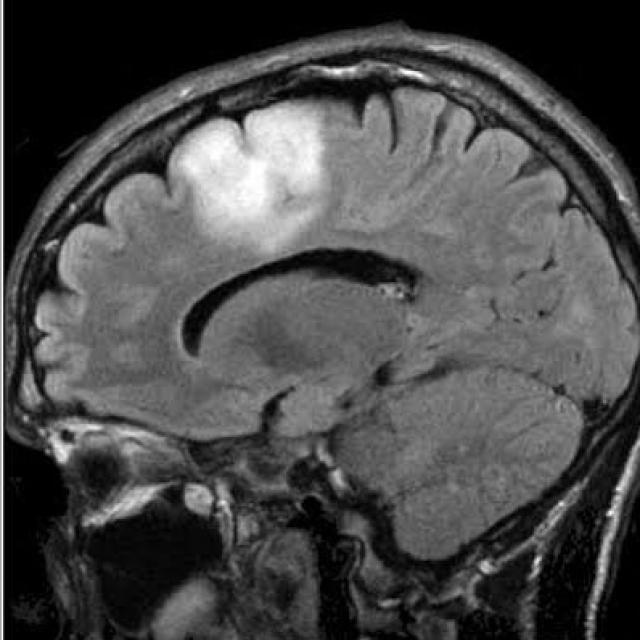glioma: (180, 245, 424, 356)
